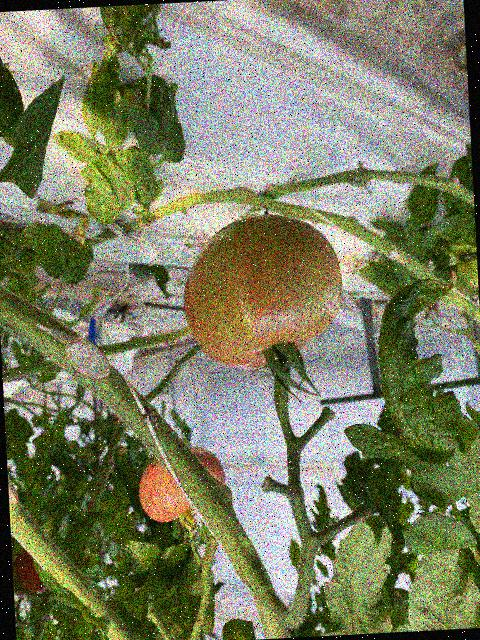b_fully_ripened: (12, 549, 47, 598)
b_half_ripened: (178, 211, 347, 374), (137, 445, 229, 524)
